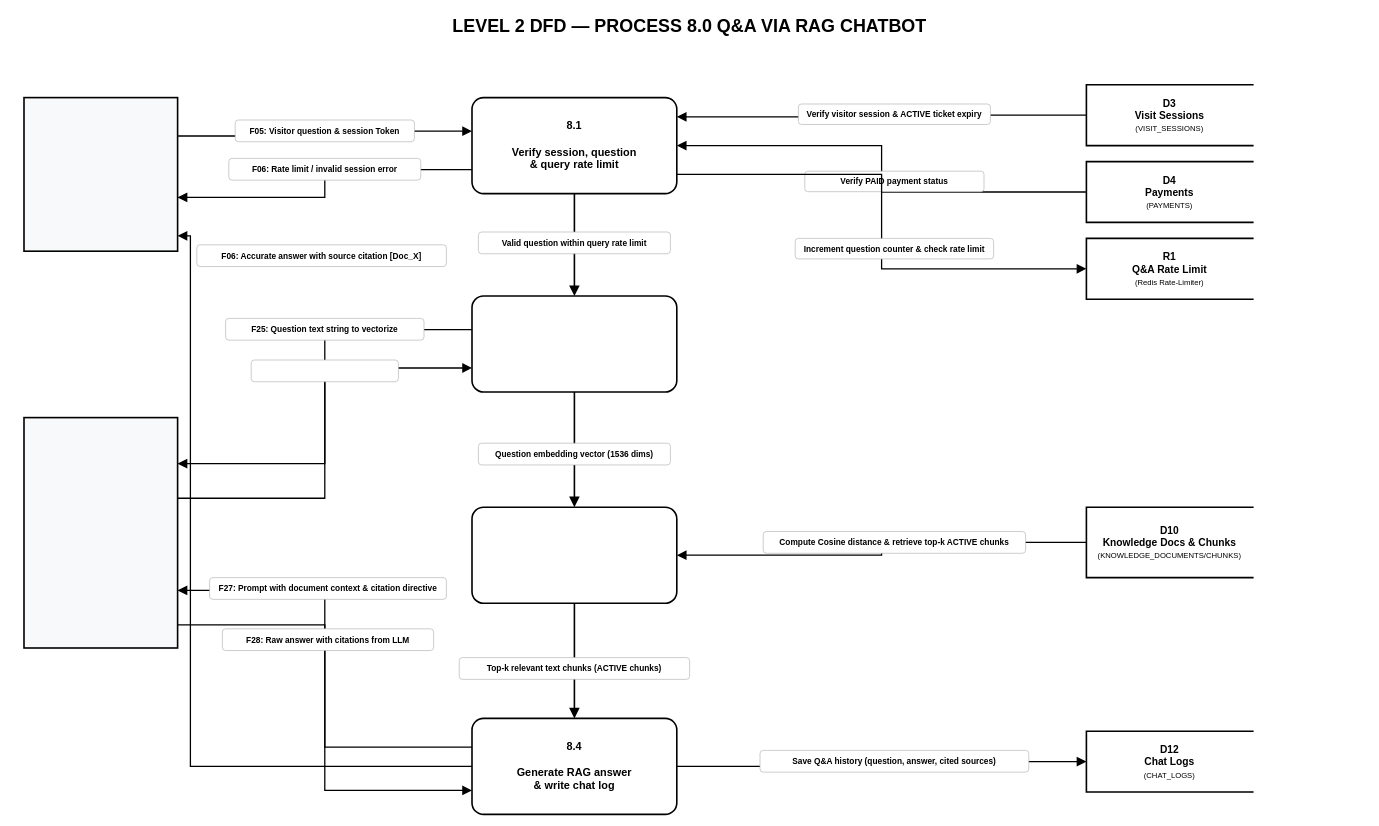
This 1379x826 diagram has some shape labels left out. The centre of each missing label's shape, as x and y in pixels:
8.2 Generate question embedding vector: pixel 574 344
8.3 Retrieve ACTIVE context from knowledge base: pixel 574 555
E1 Visitor (Ask questions & receive cited answers): pixel 100 174
E6 Embedding & LLM Service (text-embedding-3-small & Gemini / GPT): pixel 100 533
F26: Numeric question vector: pixel 324 370
